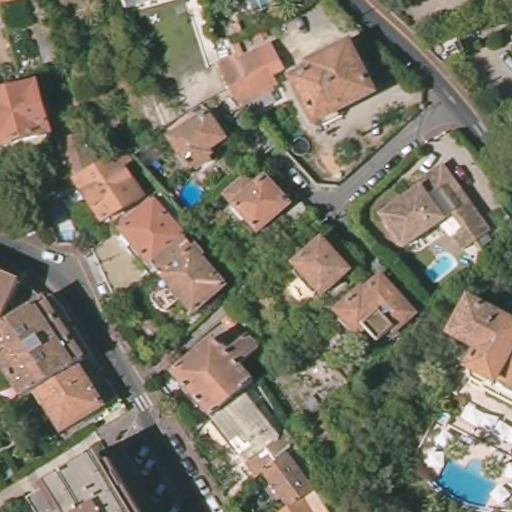pool: (433, 453, 499, 503), (424, 252, 457, 286), (178, 182, 206, 211), (56, 229, 81, 243)
